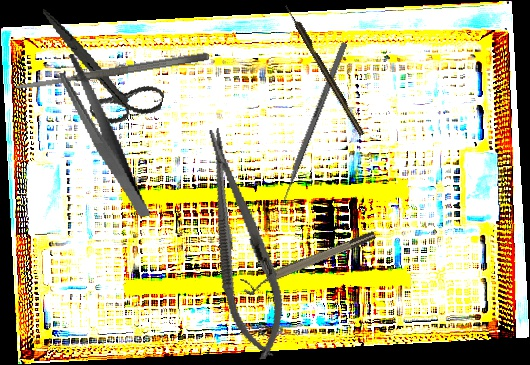Dressing Forceps: (56, 45, 150, 228)
Fixation Ring: (239, 228, 380, 298)
Hook Surgical: (283, 3, 366, 137)
Iris Scissors: (20, 8, 178, 135)
Needle Holder: (187, 122, 296, 365)
Pusher: (274, 41, 348, 218)
Spatula Surgical: (14, 50, 210, 93)
